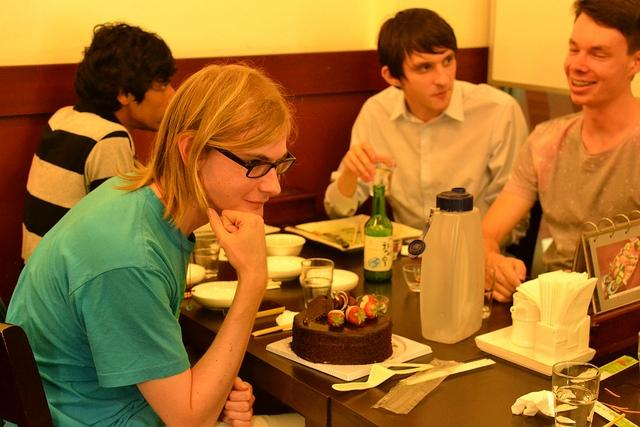strawberry: (346, 306, 366, 324), (328, 312, 344, 328), (358, 294, 381, 302)
